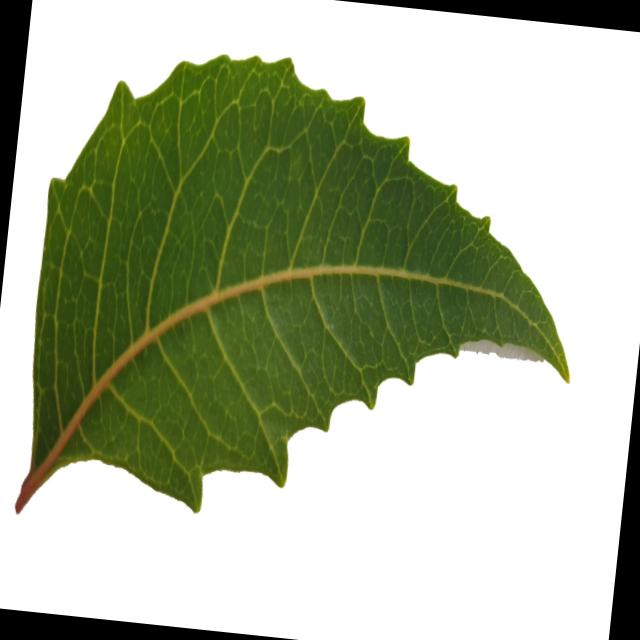Medicinal-Neem: (5, 23, 601, 570)
